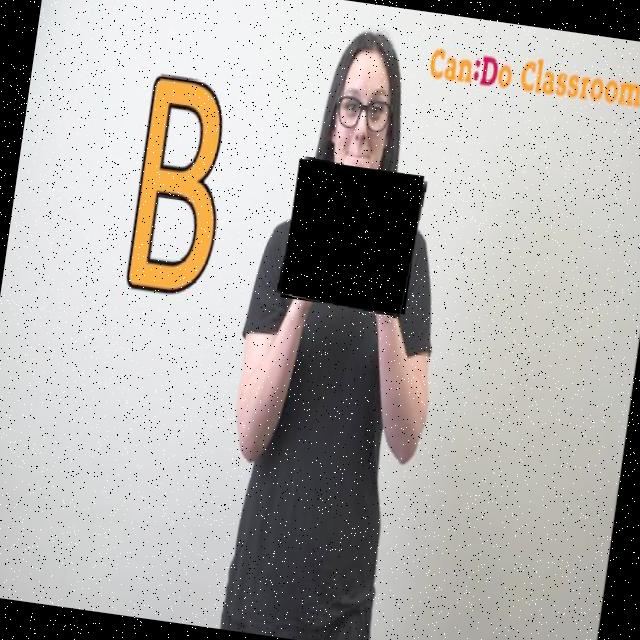B: (279, 158, 429, 319)
